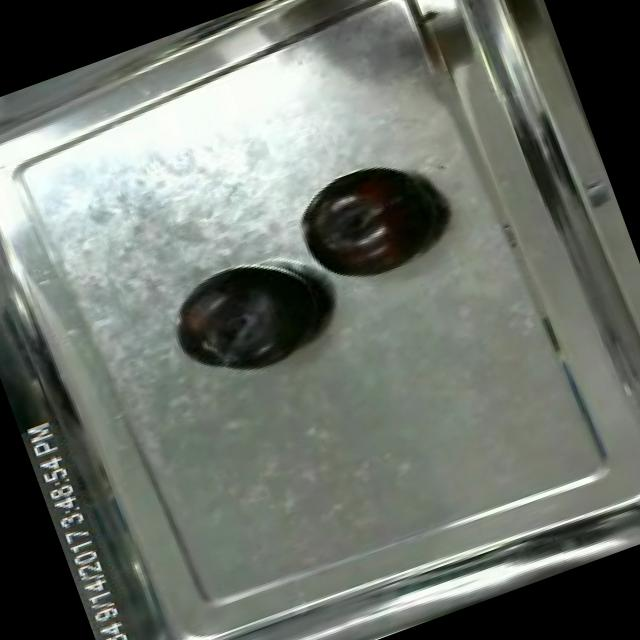Fruit: (154, 236, 350, 400), (282, 146, 454, 302)
